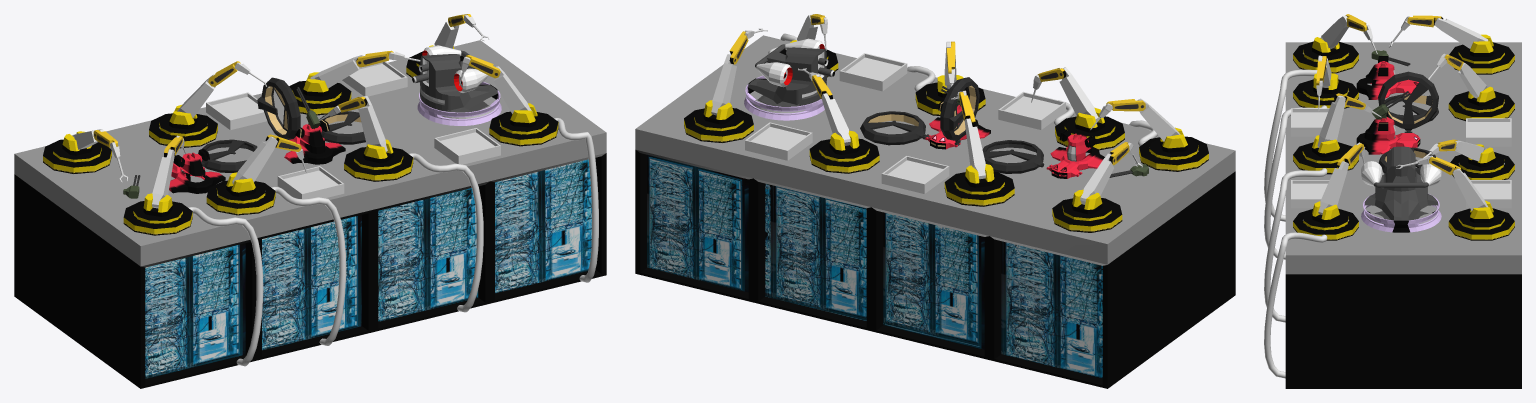
The model's file is Room_Collider new.fbx.
3 views of the same model, side by side, from view 1: azimuth 30°, elevation 25°; view 2: azimuth 150°, elevation 25°; view 3: azimuth 270°, elevation 25° (orthographic). The views are drawn at different scales.
Visible parts, largest first — view 1: Table, Table.001, Drone 1, BezierCurve.003, Drone body.003, BezierCurve.001, BezierCurve.002, BezierCurve, Fan R, Drone body, Robot arm 2.002, Robot arm 2.001 (+28 smaller); view 2: Table, Table.001, Drone 1, Drone body.003, Fan L.002, Fan L, Fan R, Robot arm 1.003, Robot arm 1.001, Robot arm 1, Robot arm 1.002, Robot arm 2.003 (+23 smaller); view 3: Table, Drone 1, Fan R, BezierCurve, Drone body, BezierCurve.001, Drone body.003, BezierCurve.003, BezierCurve.002, Robot arm 1, Cylinder.010, Robot arm 2 (+35 smaller).
Boxes of the visible parts, x1,y1,x2,y2 form: Table: (14, 40, 606, 388); Table.001: (145, 159, 591, 378); Drone 1: (412, 45, 501, 125); BezierCurve.003: (188, 207, 263, 366); Drone body.003: (169, 148, 225, 193); BezierCurve.001: (408, 153, 483, 312); BezierCurve.002: (271, 186, 346, 345); BezierCurve: (554, 118, 598, 282); Fan R: (257, 77, 300, 139); Drone body: (284, 119, 345, 164); Robot arm 2.002: (206, 180, 275, 215); Robot arm 2.001: (344, 147, 413, 181); Table: (635, 35, 1235, 388); Table.001: (647, 154, 1102, 378); Drone 1: (744, 38, 834, 120); Drone body.003: (1046, 129, 1104, 178); Fan L.002: (982, 140, 1044, 173); Fan L: (860, 111, 925, 145); Fan R: (940, 77, 979, 142); Robot arm 1.003: (1052, 198, 1122, 232); Robot arm 1.001: (809, 138, 879, 173); Robot arm 1: (684, 108, 753, 142); Robot arm 1.002: (944, 171, 1014, 206); Robot arm 2.003: (1139, 136, 1208, 171); Table: (1285, 42, 1521, 388); Drone 1: (1361, 146, 1441, 232); Fan R: (1378, 71, 1438, 132); BezierCurve: (1264, 232, 1327, 378); Drone body: (1356, 112, 1420, 154); BezierCurve.001: (1264, 168, 1327, 322); Drone body.003: (1356, 56, 1418, 99); BezierCurve.003: (1264, 69, 1317, 221); BezierCurve.002: (1264, 105, 1327, 259); Robot arm 1: (1448, 208, 1514, 240); Cylinder.010: (1303, 201, 1348, 230); Robot arm 2: (1293, 208, 1358, 240).
Size of the model in its own units: 19780 by 8909 by 10127.
